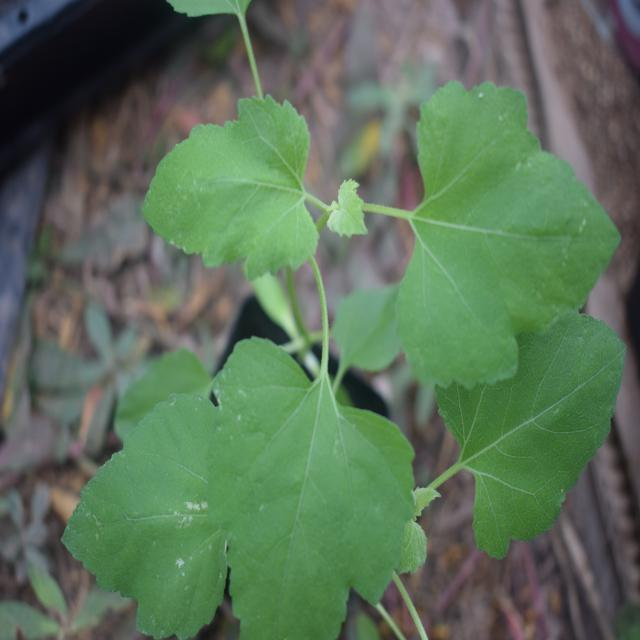cocklebur: (89, 95, 585, 562)
